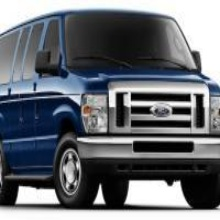no damage: (1, 9, 220, 210)
